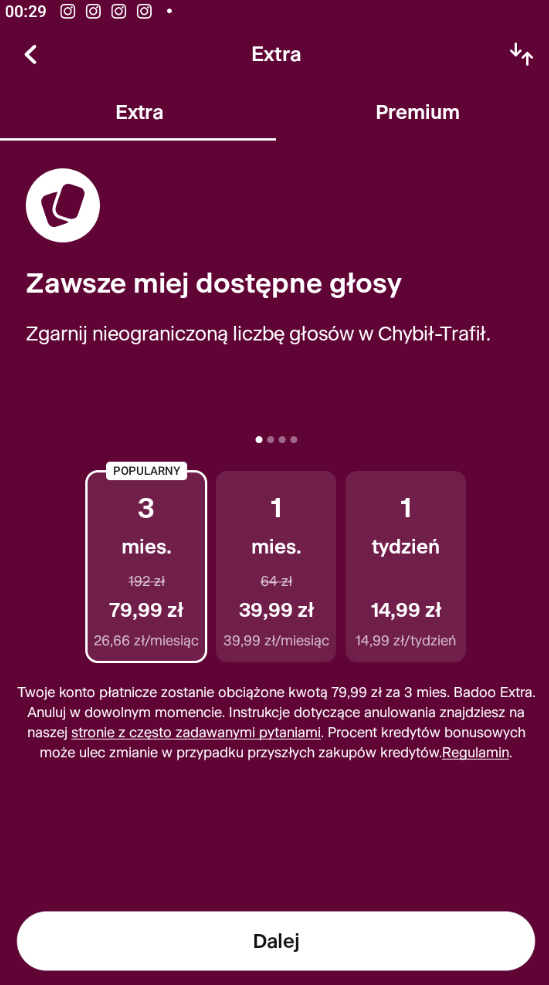kupno_button: (20, 906, 534, 973)
